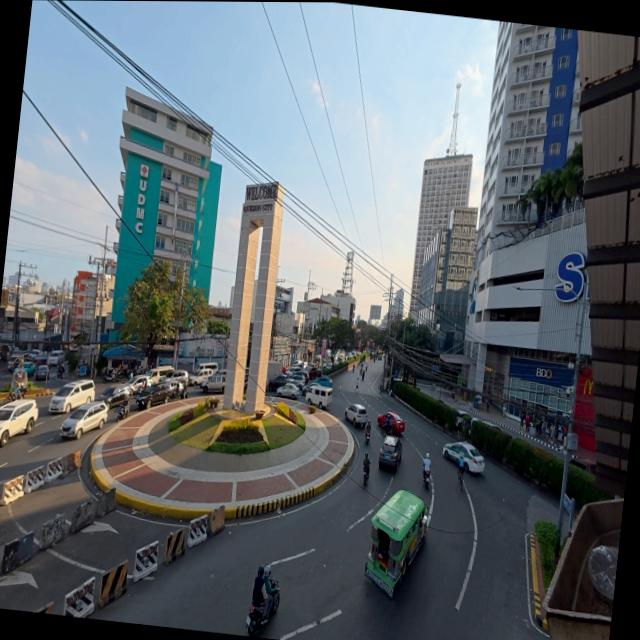Jeepneys: (364, 483, 434, 602)
car: (58, 400, 107, 444), (442, 440, 488, 475), (376, 412, 409, 455), (342, 403, 369, 430), (276, 380, 302, 400)
trucks: (198, 368, 226, 393)
vans: (306, 373, 338, 407)
